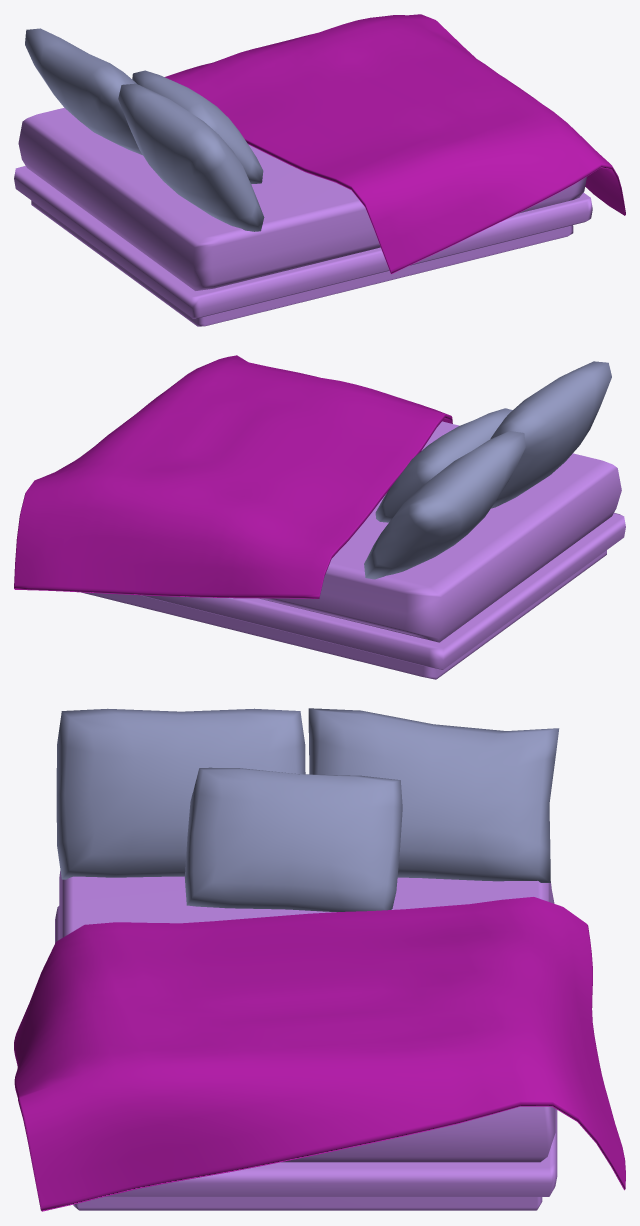
File: Friday_AbbyBed.fbx
3 renders of one model, top to bottom at view 1: azimuth 30°, elevation 25°; view 2: azimuth 150°, elevation 25°; view 3: azimuth 270°, elevation 25°, orthographic. The views are drawn at different scales.
Visible parts, largest first — view 1: Blanket, Mattress, Pillow_1, Pillow_2, Base, Pillow_3; view 2: Blanket, Mattress, Pillow_2, Pillow_1, Base, Pillow_3; view 3: Blanket, Mattress, Pillow_2, Pillow_1, Pillow_3, Base.
Boxes of the visible parts, <box> form: Blanket: <box>165,14,625,274</box>; Mattress: <box>14,107,592,318</box>; Pillow_1: <box>118,83,264,231</box>; Pillow_2: <box>25,28,142,155</box>; Base: <box>31,200,573,326</box>; Pillow_3: <box>132,70,263,184</box>; Blanket: <box>14,355,452,598</box>; Mattress: <box>140,421,625,669</box>; Pillow_2: <box>364,431,525,579</box>; Pillow_1: <box>490,361,611,508</box>; Base: <box>81,550,606,679</box>; Pillow_3: <box>375,408,512,522</box>; Blanket: <box>14,897,625,1211</box>; Mattress: <box>55,870,557,1196</box>; Pillow_2: <box>308,708,559,882</box>; Pillow_1: <box>56,708,305,879</box>; Pillow_3: <box>184,767,402,911</box>; Base: <box>73,1197,542,1210</box>.
Size of the model in its own units: 46.53 by 19.32 by 41.83.
